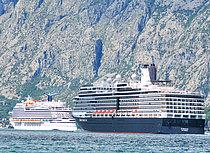Ship: (73, 62, 210, 138), (6, 92, 82, 134)
